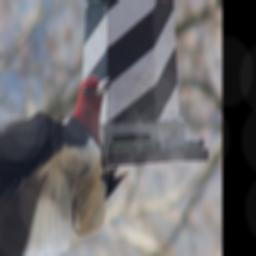Woodpecker: (0, 64, 124, 256)
